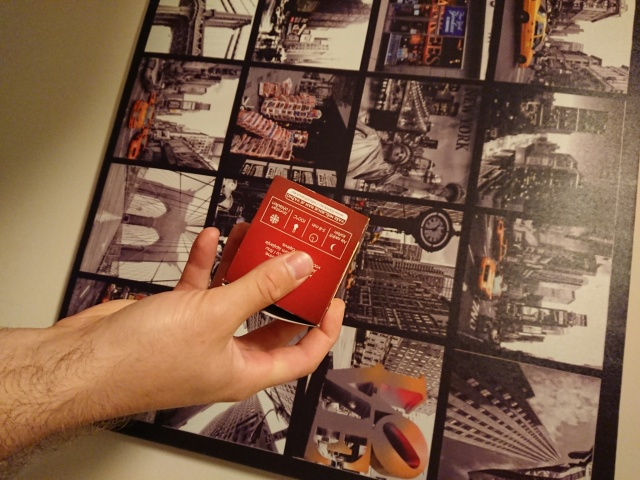Franck Apple Cinnamon Tea 60g: (205, 173, 373, 331)
